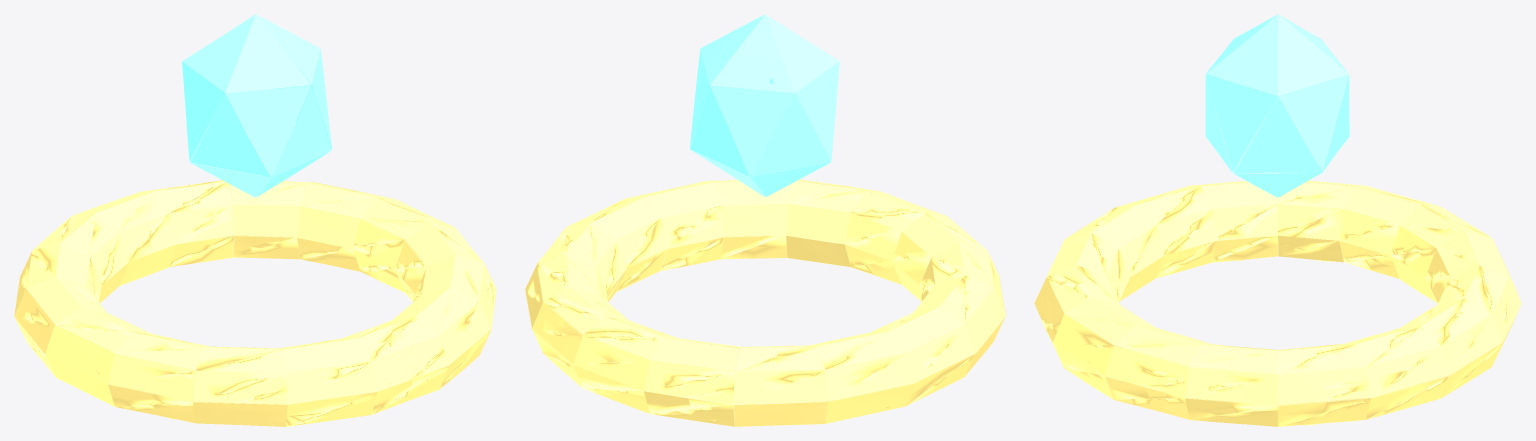
The model's file is ring.glb.
3 renders of one model, left to right at view 1: azimuth 30°, elevation 25°; view 2: azimuth 150°, elevation 25°; view 3: azimuth 270°, elevation 25°, orthographic.
Parts seen in each view (by area): view 1: RingBand; view 2: RingBand; view 3: RingBand.
Boxes of the visible parts, box(x1,y1,x2,y2) form: RingBand: box(14, 14, 496, 426); RingBand: box(525, 14, 1005, 426); RingBand: box(1034, 14, 1521, 426).
Size of the model in its own units: 0.5783 by 0.4307 by 0.5798.
